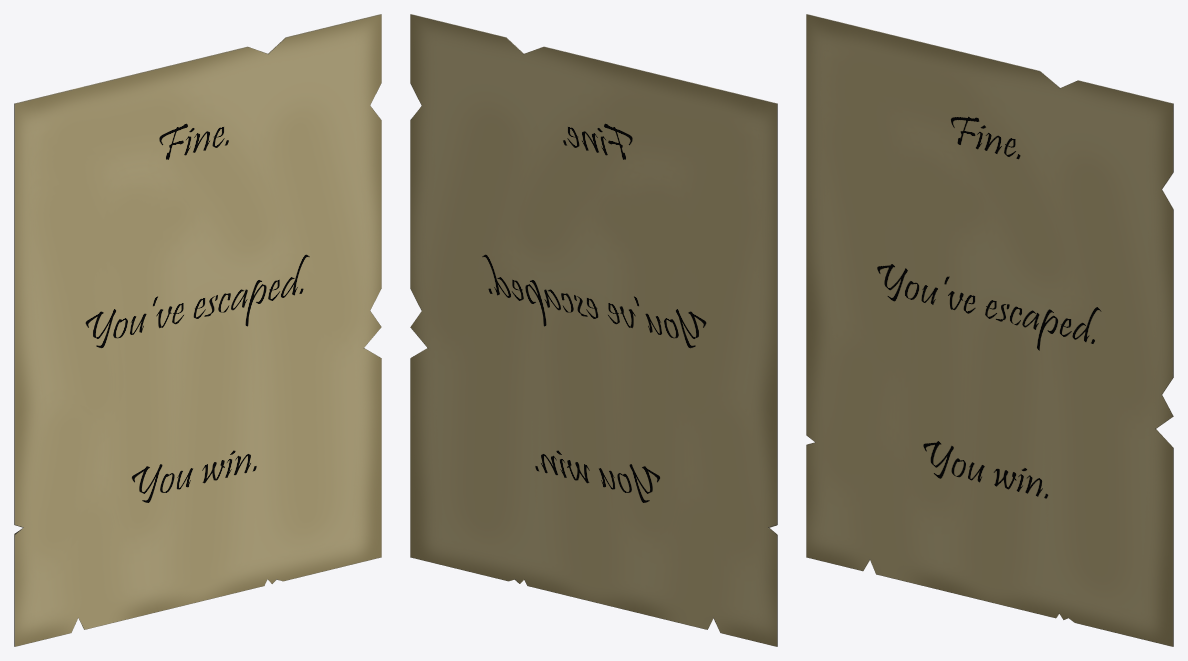
The model's file is p_note_8.fbx.
3 views of the same model, side by side, from view 1: azimuth 30°, elevation 25°; view 2: azimuth 150°, elevation 25°; view 3: azimuth 330°, elevation 25° (orthographic).
Visible parts, largest first — view 1: pCube1; view 2: pCube1; view 3: pCube1.
Boxes of the visible parts, x1,y1,x2,y2 form: pCube1: (14, 14, 381, 646); pCube1: (410, 14, 777, 646); pCube1: (806, 14, 1173, 646).
Size of the model in its own units: 42 by 59.4 by 0.1135.
